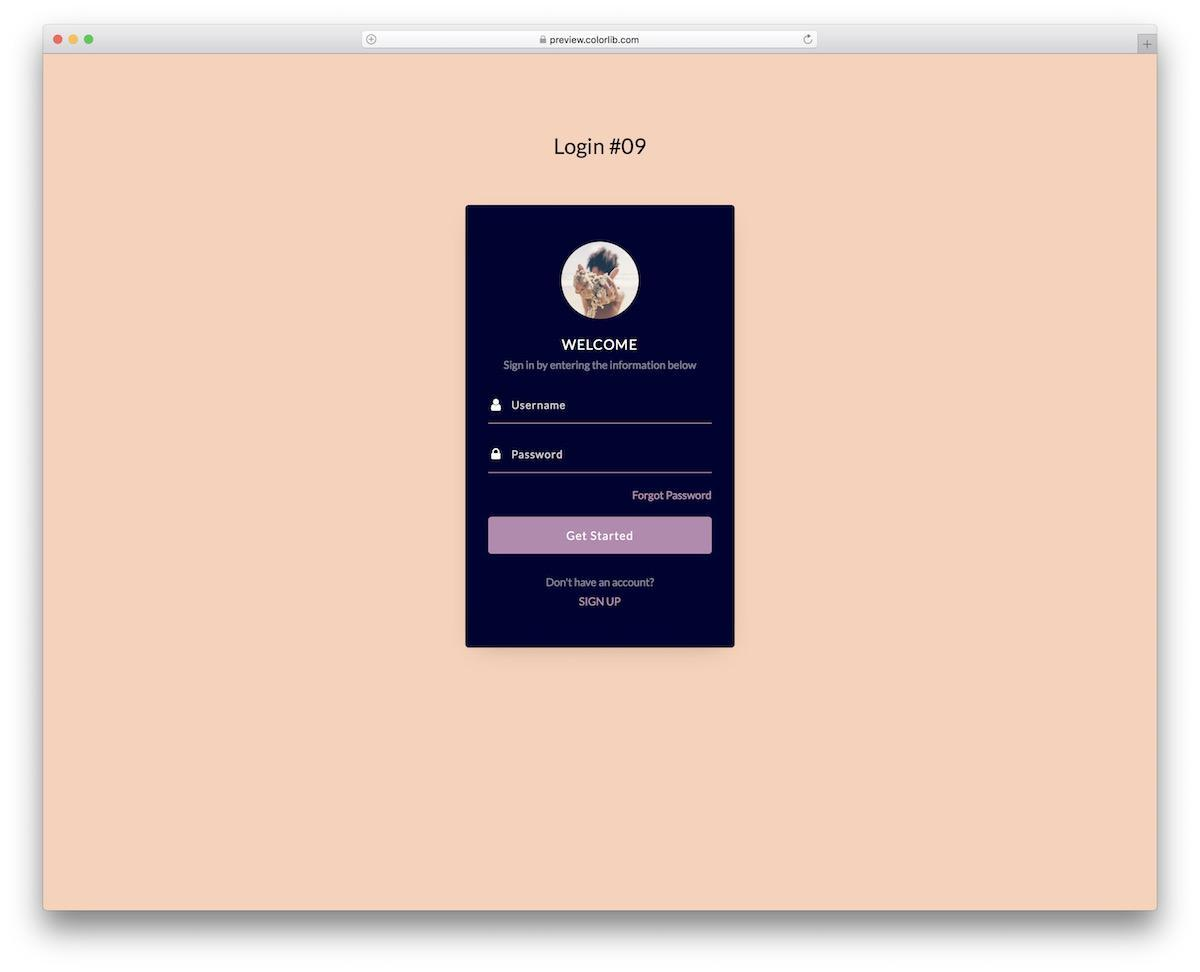button: (490, 518, 713, 554)
icon: (492, 397, 502, 416), (491, 448, 502, 462)
label: (554, 133, 649, 158), (512, 447, 566, 464), (512, 399, 568, 413), (578, 594, 622, 610)
